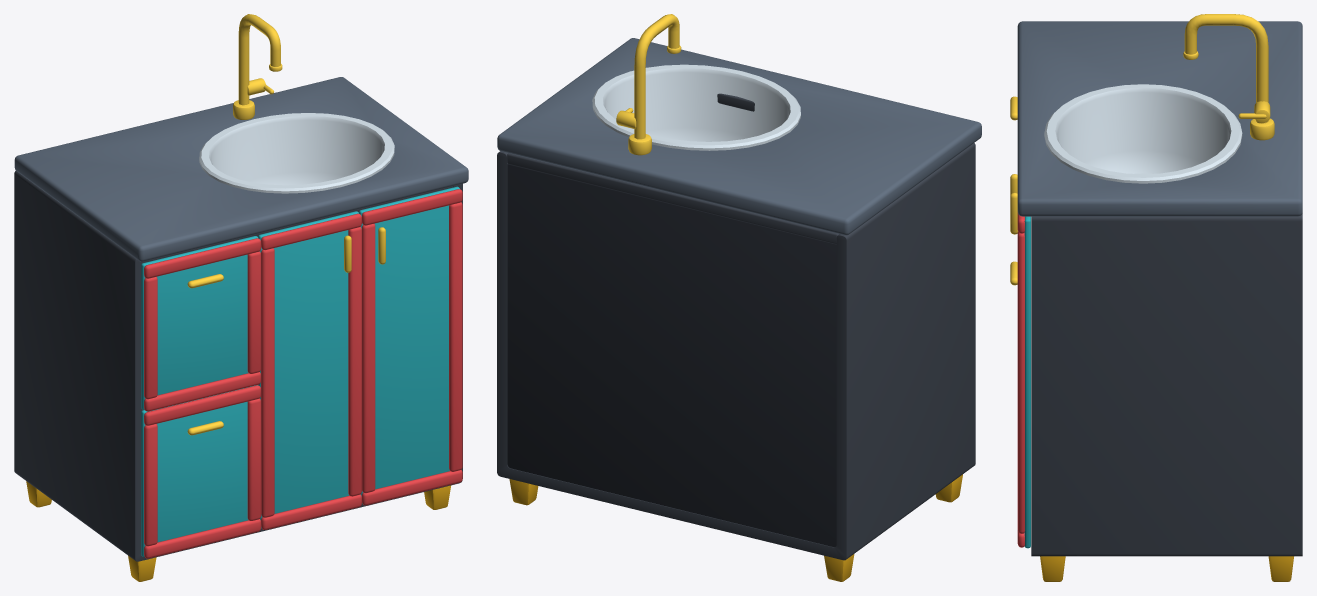
File: armario_cozinha_pia_grafite.glb
3 renders of one model, left to right at view 1: azimuth 30°, elevation 25°; view 2: azimuth 150°, elevation 25°; view 3: azimuth 270°, elevation 25°, orthographic. The views are drawn at different scales.
Parts seen in each view (by area): view 1: armario_cozinha_pia_grafite, porta_1, porta_2, gaveta_1, gaveta_2; view 2: armario_cozinha_pia_grafite; view 3: armario_cozinha_pia_grafite, porta_2.
Boxes of the visible parts, box(x1,y1,x2,y2) form: armario_cozinha_pia_grafite: box(14, 14, 468, 581); porta_1: box(258, 211, 361, 529); porta_2: box(359, 186, 462, 505); gaveta_1: box(141, 236, 260, 411); gaveta_2: box(141, 385, 260, 558); armario_cozinha_pia_grafite: box(497, 14, 981, 581); armario_cozinha_pia_grafite: box(1017, 14, 1302, 581); porta_2: box(1010, 192, 1030, 548).
Size of the model in its own units: 0.898 by 1.18 by 0.6147.
1 material, 1 textured.
